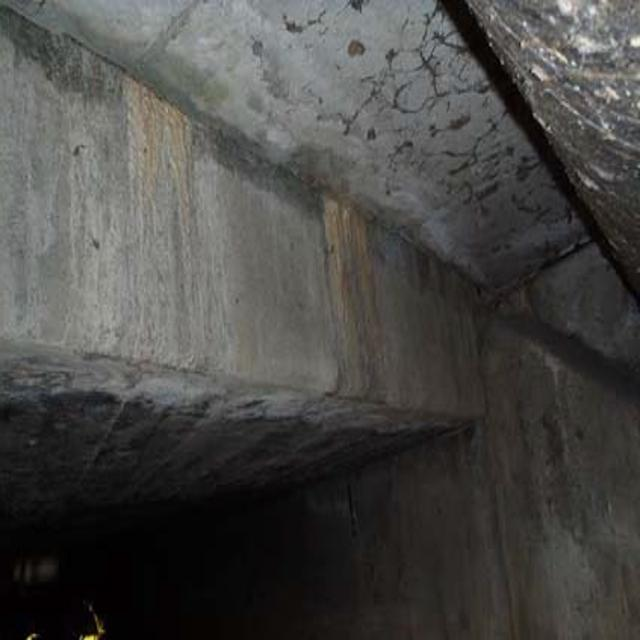freelime: (107, 74, 209, 369), (307, 199, 389, 400)
